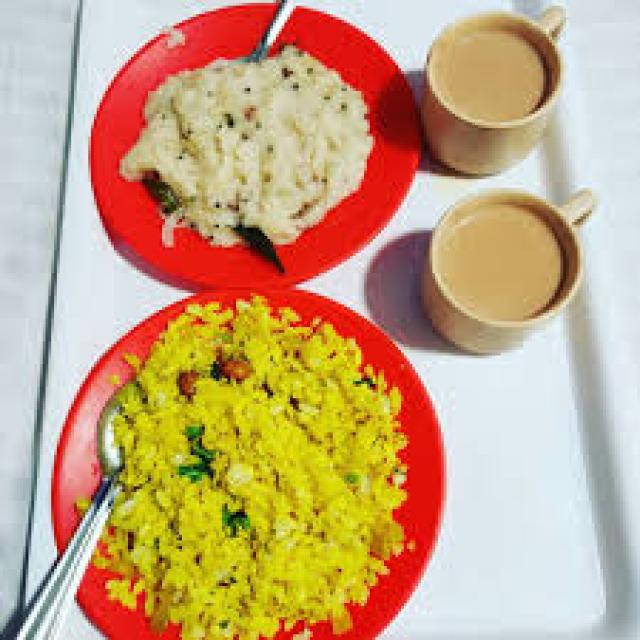POHA: (91, 299, 404, 637)
UPMA: (119, 46, 370, 242)
